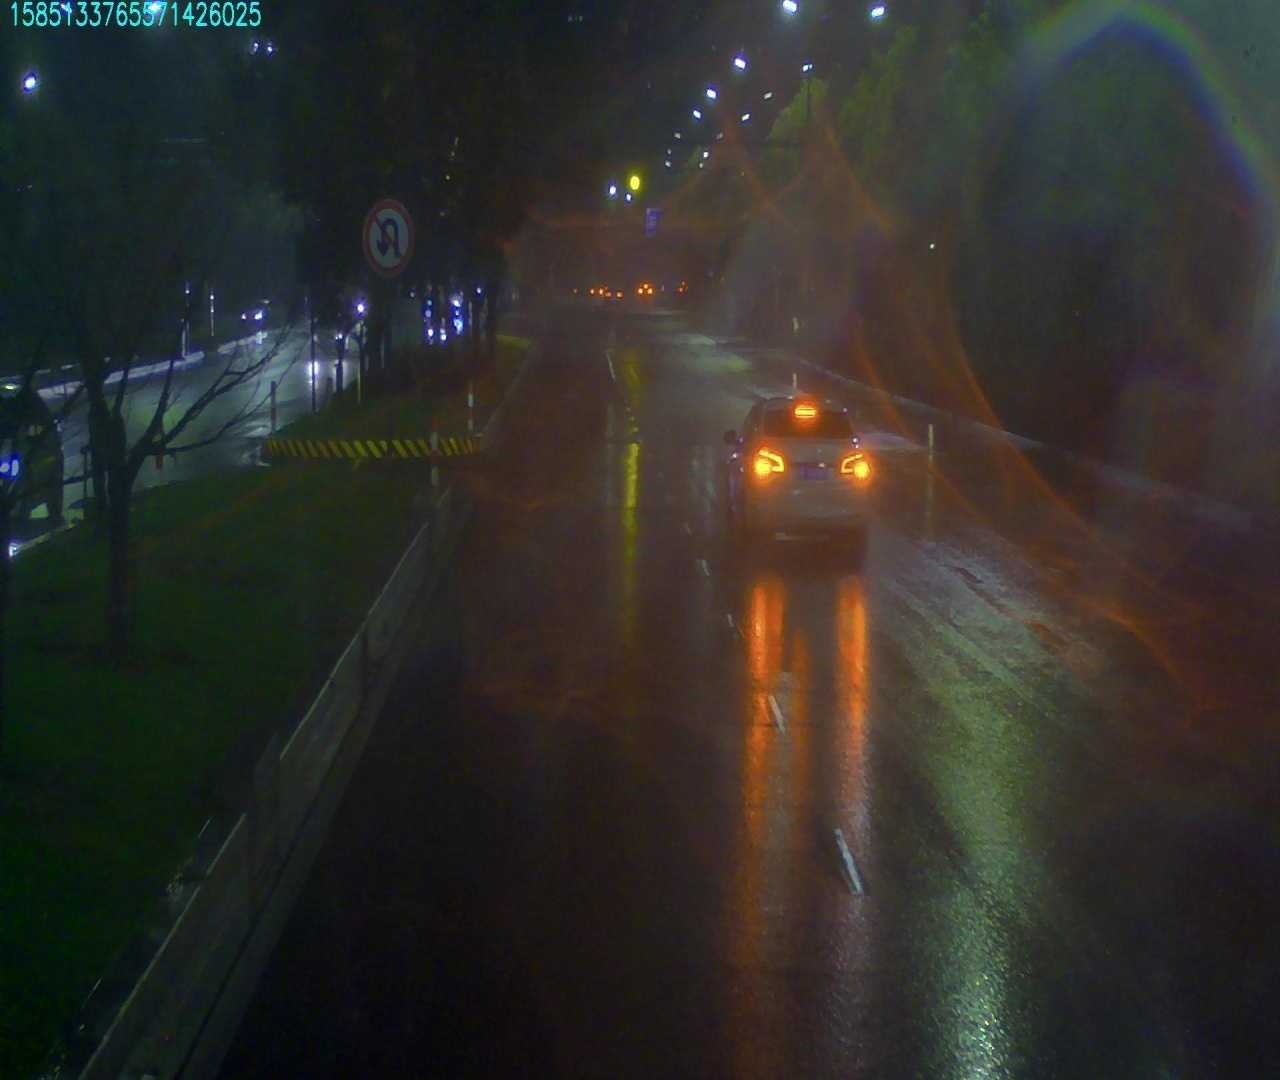yellow: (624, 167, 647, 199)
